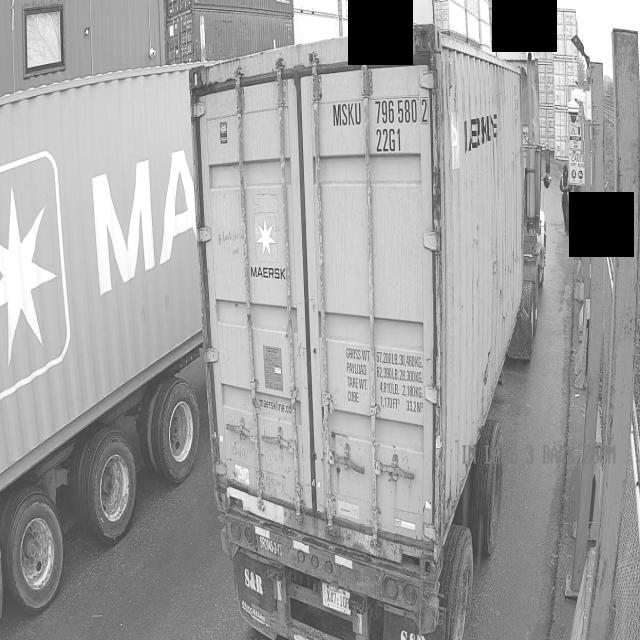container_company_logo: (249, 212, 284, 288)
container_number: (331, 99, 430, 157)
license_plate: (318, 585, 354, 615)
other_container_info: (343, 340, 424, 417)
truck_with_container: (191, 25, 551, 640), (0, 66, 202, 615)
